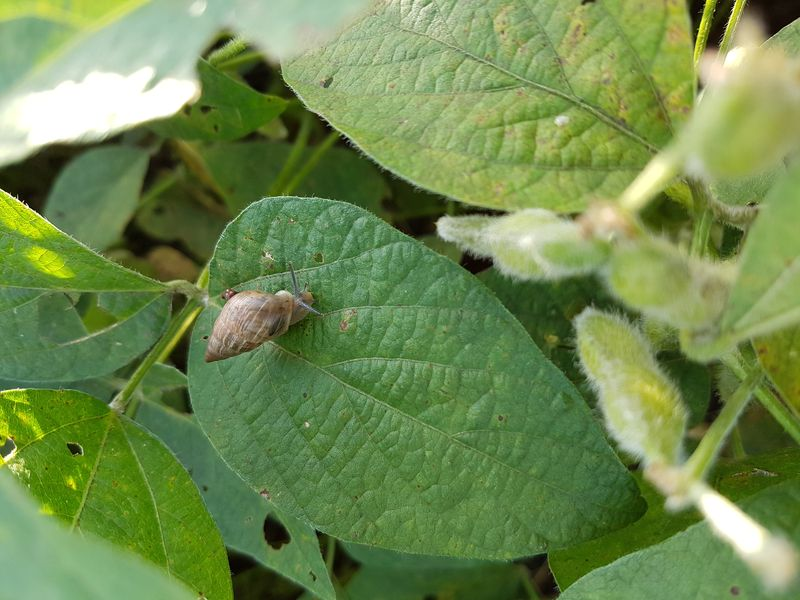Gastropoda: (188, 243, 335, 374)
